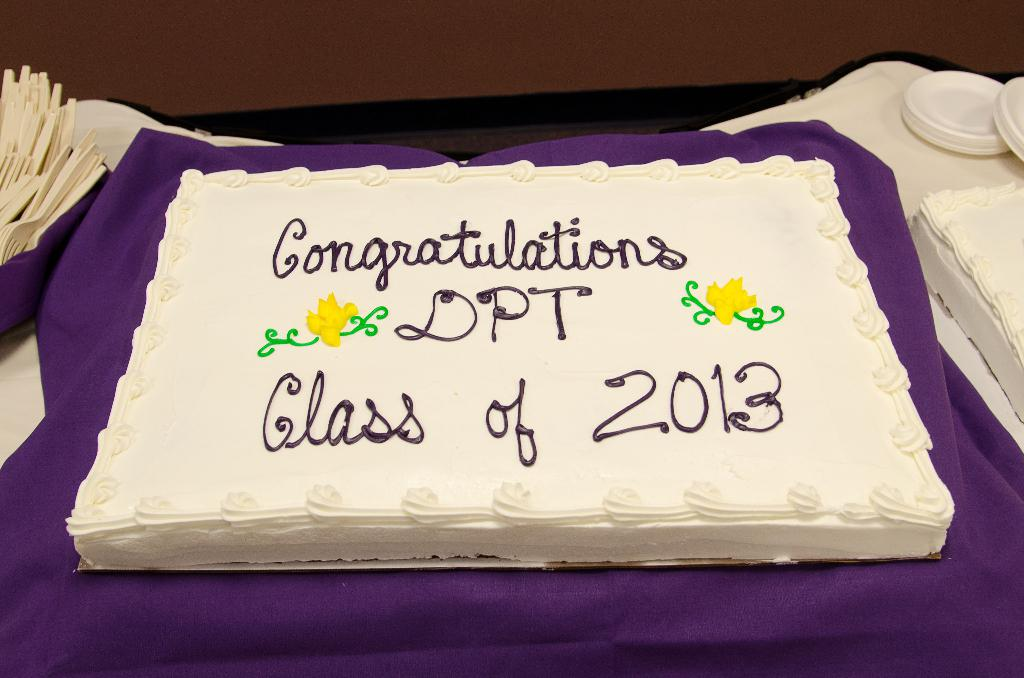plate: (991, 72, 1023, 165)
